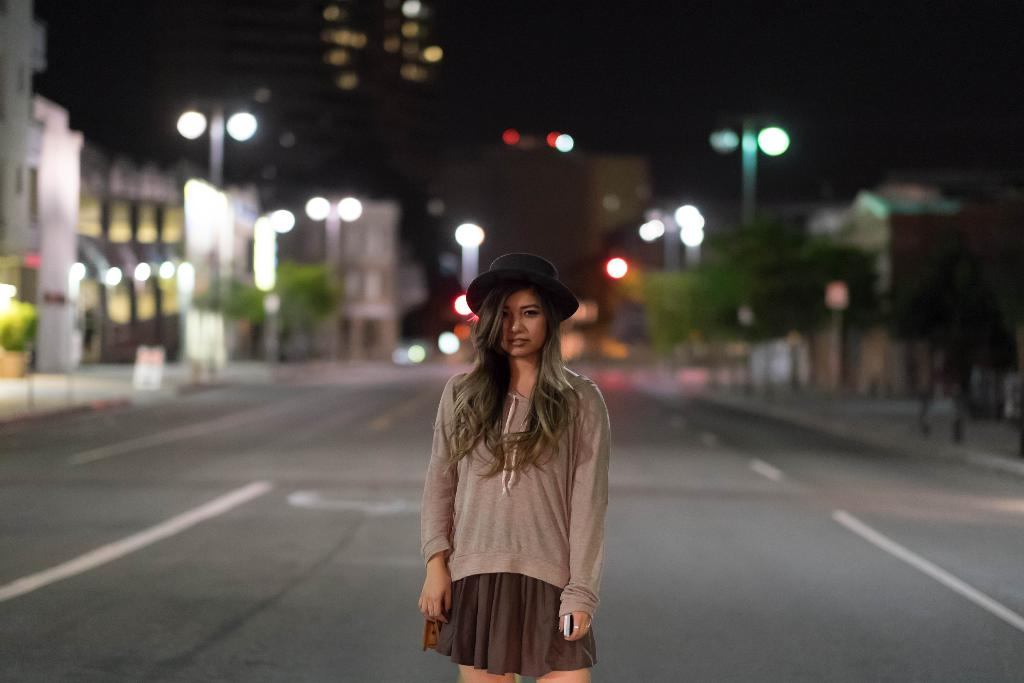Human-face: (492, 289, 545, 352)
